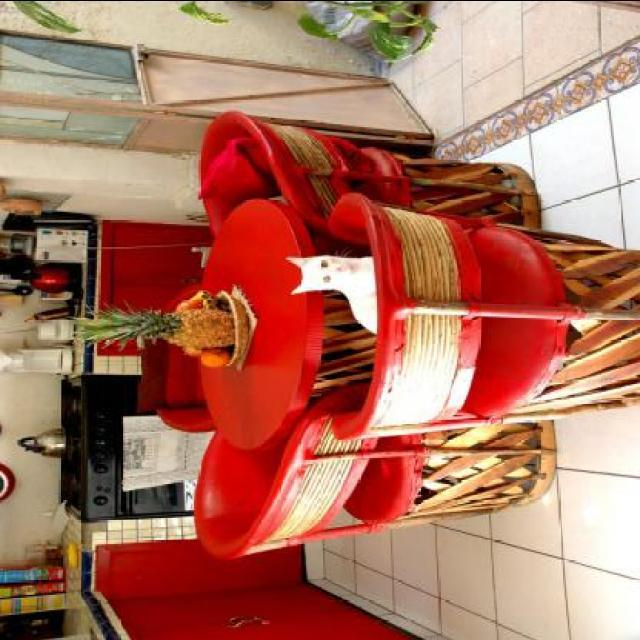Pineapple: (72, 298, 252, 362)
